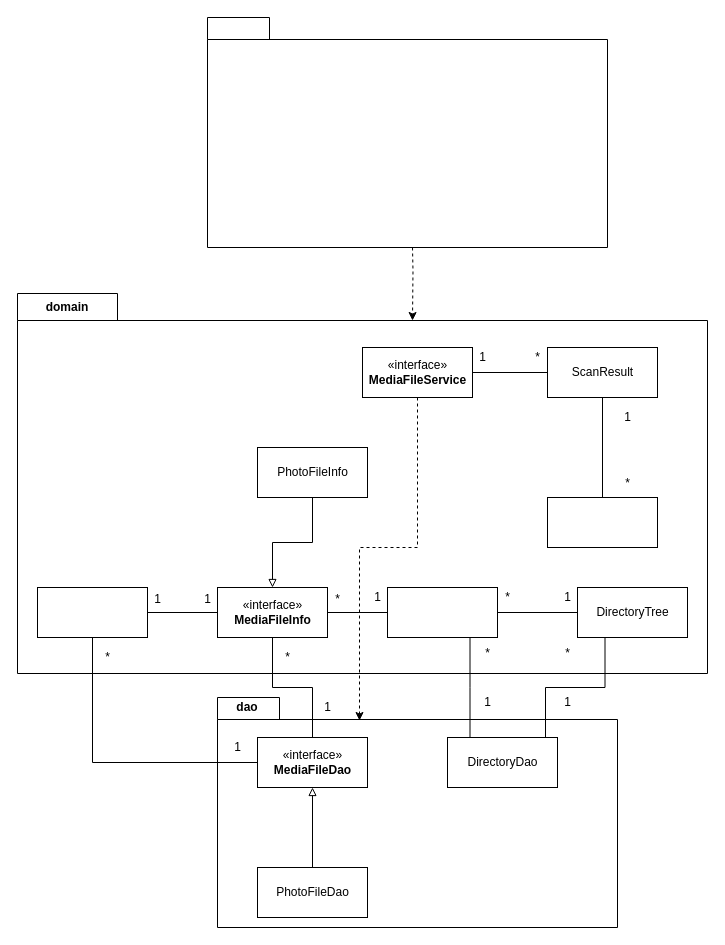
Some shapes in this 725 by 945 pixel diagram are drawn without their labels. Here are the shapes that lost their labels. From the top down, the centre of each, then its label:
At (407,132): "ui".
At (602,522): "DuplicateSet".
At (92,612): "«interface» Metadata".
At (442,612): "DirectoryInfo".
